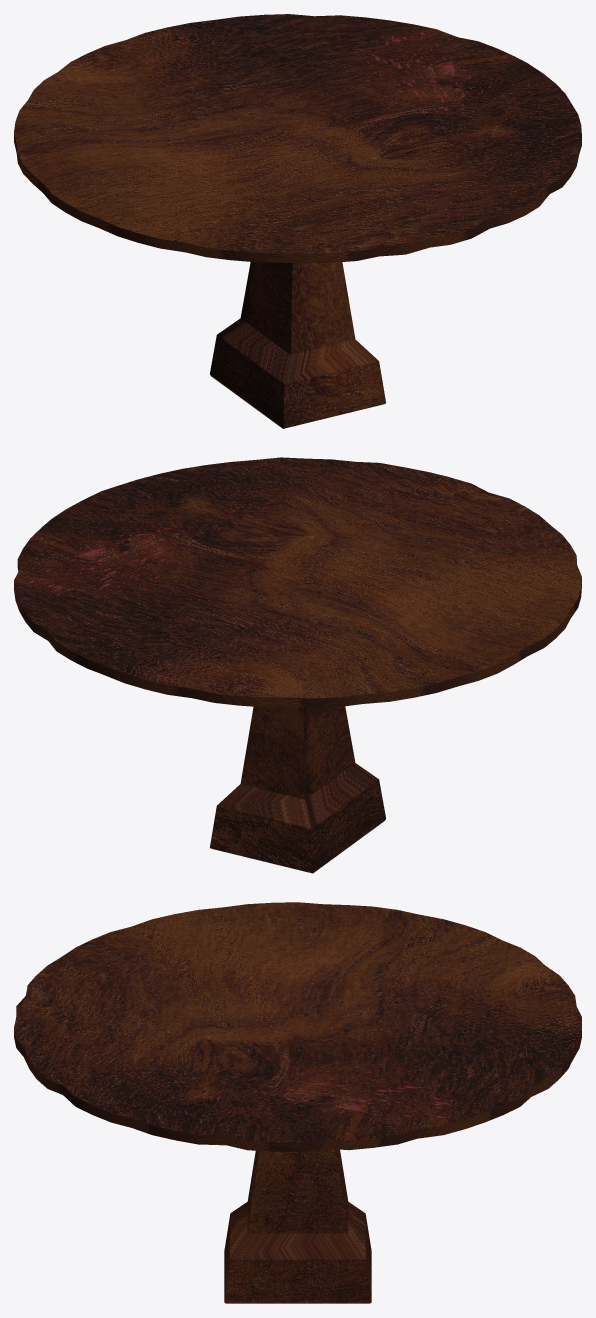
The model's file is Table.fbx.
3 renders of one model, top to bottom at view 1: azimuth 30°, elevation 25°; view 2: azimuth 150°, elevation 25°; view 3: azimuth 270°, elevation 25°, orthographic.
Visible parts, largest first — view 1: pCylinder1, pCube1; view 2: pCylinder1, pCube1; view 3: pCylinder1, pCube1.
Boxes of the visible parts, box(x1,y1,x2,y2) form: pCylinder1: box(14, 14, 581, 263); pCube1: box(210, 262, 385, 428); pCylinder1: box(14, 457, 581, 707); pCube1: box(210, 706, 385, 873); pCylinder1: box(14, 902, 581, 1151); pCube1: box(224, 1148, 371, 1303).
Size of the model in its own units: 14.9 by 7.49 by 14.89.
Materials: 2 (2 with a texture image).
